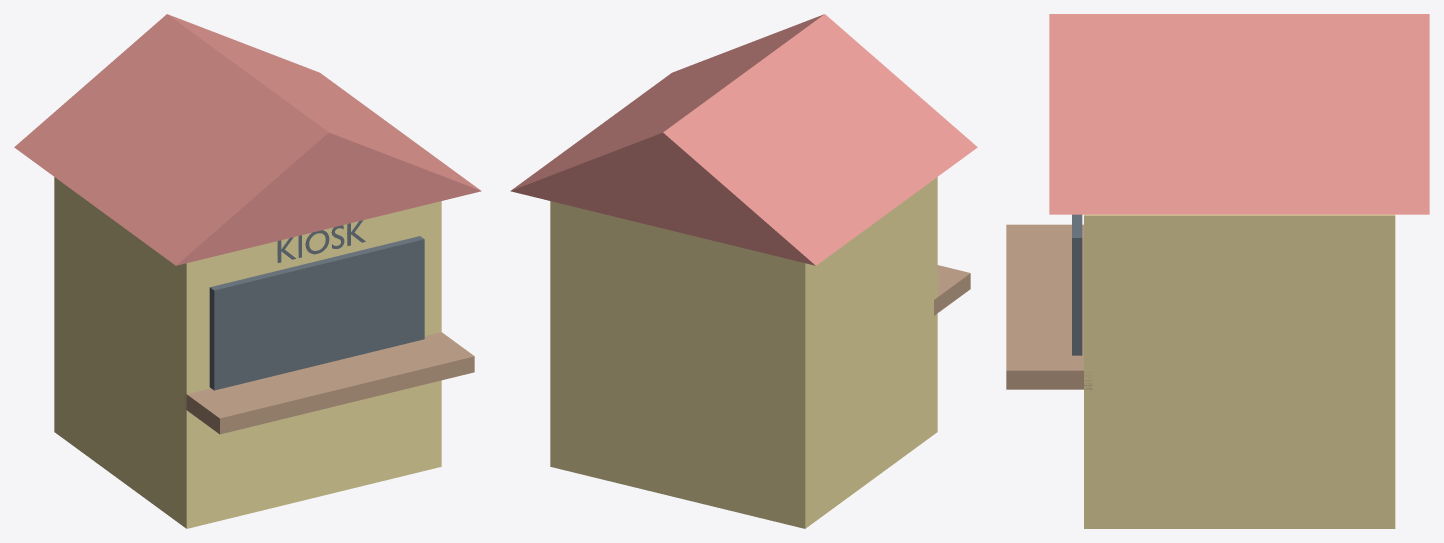
Rendered from kiosk.glb.
3 views of the same model, side by side, from view 1: azimuth 30°, elevation 25°; view 2: azimuth 150°, elevation 25°; view 3: azimuth 270°, elevation 25° (orthographic). The views are drawn at different scales.
Visible parts, largest first — view 1: kiosk_000, kiosk_003, kiosk_001, kiosk_002, kiosk_004; view 2: kiosk_000, kiosk_003, kiosk_002; view 3: kiosk_000, kiosk_003, kiosk_002, kiosk_001.
Part boxes in pixels (left/top/right/bottom): kiosk_000: left=54, top=177, right=441, bottom=528; kiosk_003: left=14, top=14, right=481, bottom=265; kiosk_001: left=209, top=236, right=424, bottom=390; kiosk_002: left=183, top=332, right=474, bottom=434; kiosk_004: left=277, top=220, right=365, bottom=262; kiosk_000: left=550, top=177, right=937, bottom=528; kiosk_003: left=510, top=14, right=977, bottom=265; kiosk_002: left=934, top=265, right=970, bottom=315; kiosk_000: left=1084, top=214, right=1395, bottom=528; kiosk_003: left=1049, top=14, right=1429, bottom=214; kiosk_002: left=1006, top=224, right=1092, bottom=389; kiosk_001: left=1072, top=214, right=1082, bottom=355.
Bounding box in the file's own units: 2.4 × 2.82 × 2.45.
